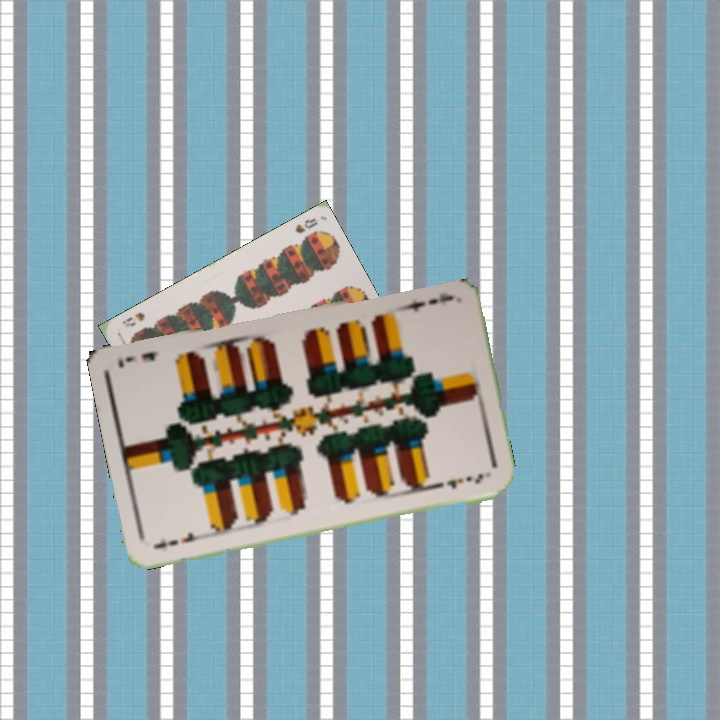E7: (397, 289, 456, 314), (149, 529, 207, 551)
S8: (291, 214, 320, 236)
